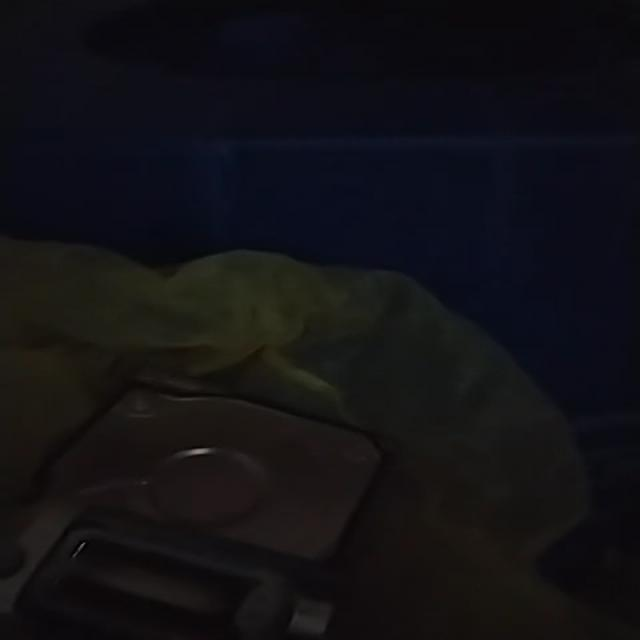bin: (2, 0, 640, 624)
metal: (3, 388, 381, 640)
